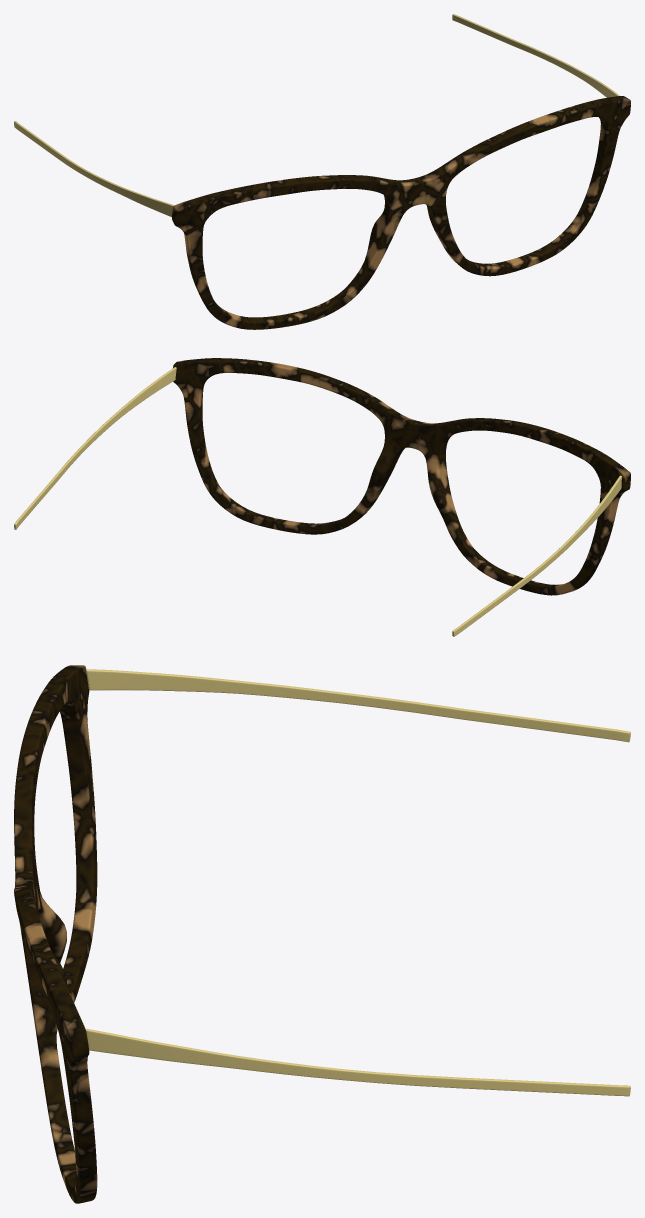
Rendered from RB7135L_app.glb.
3 views of the same model, one above another, from view 1: azimuth 30°, elevation 25°; view 2: azimuth 150°, elevation 25°; view 3: azimuth 270°, elevation 25° (orthographic). The views are drawn at different scales.
Parts seen in each view (by area): view 1: Frente, hastes; view 2: Frente, hastes; view 3: Frente, hastes.
Part boxes in pixels (x1=…): Frente: x1=172, y1=96, x2=630, y2=329; hastes: x1=14, y1=14, x2=619, y2=217; Frente: x1=173, y1=358, x2=630, y2=595; hastes: x1=14, y1=367, x2=621, y2=636; Frente: x1=14, y1=665, x2=97, y2=1203; hastes: x1=86, y1=669, x2=630, y2=1096.
Bounding box in the file's own units: 0.158 × 0.0496 × 0.1087.
1 material, 1 textured.
